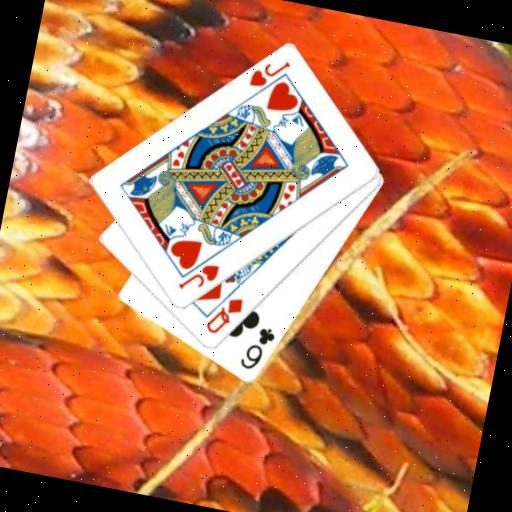6C: (236, 322, 279, 376)
JH: (174, 256, 222, 299), (246, 52, 293, 95)
QD: (201, 290, 246, 341)
